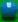blue: (0, 0, 18, 22)
